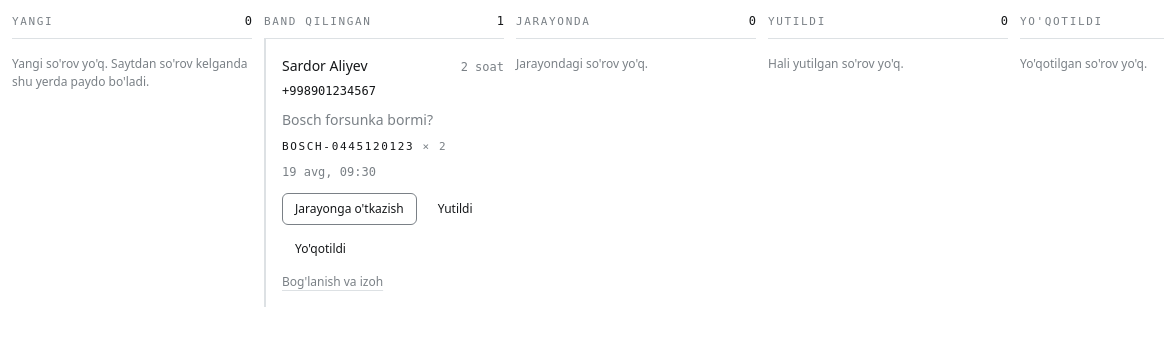
it: InquiryBoard › keeps the lead where it was when the request never lands
Step 1. Click the button "Jarayonga o'tkazish" → {"x": 349, "y": 209}, box [282, 193, 417, 225]
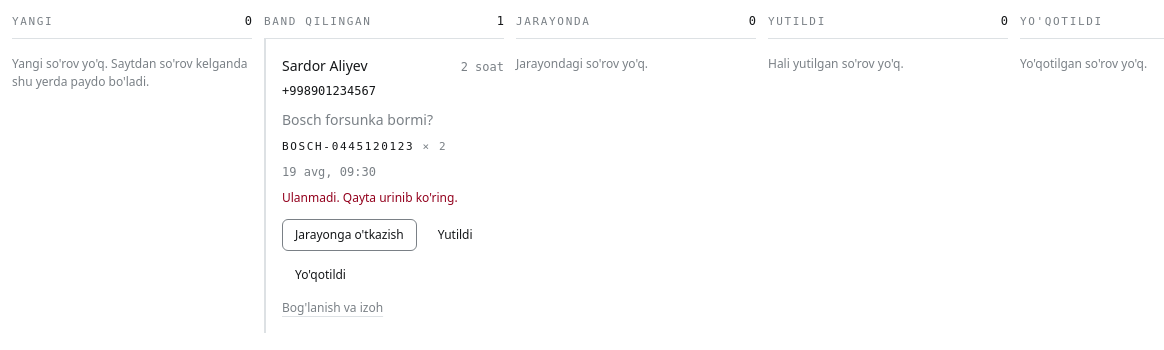
Expected: the text "Sardor Aliyev" is shown, [282, 55, 368, 77]
Expected: the text "Ulanmadi. Qayta urinib ko'ring." is shown, [282, 189, 458, 206]
